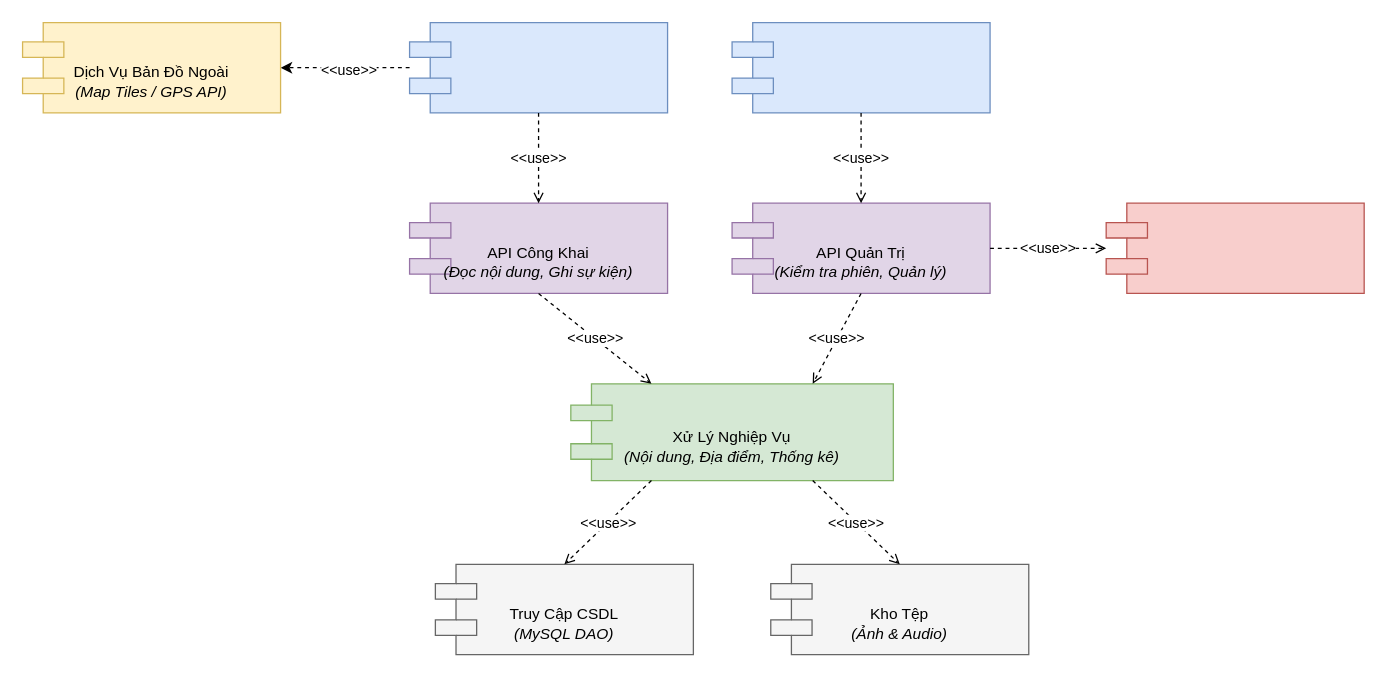
Image size: 1387x677. Some labels were removed from this diagram. The box of each missing label's shape, as (x1, y1, x2, y2) in pixels:
Dịch Vụ Xác Thực (Session / Authentication): (1105, 202, 1364, 293)
Web Du Khách (Ngôn ngữ, Vị trí, Audio): (408, 21, 668, 113)
Web Quản Trị (Quản lý, Thống kê, QR): (731, 21, 990, 113)
